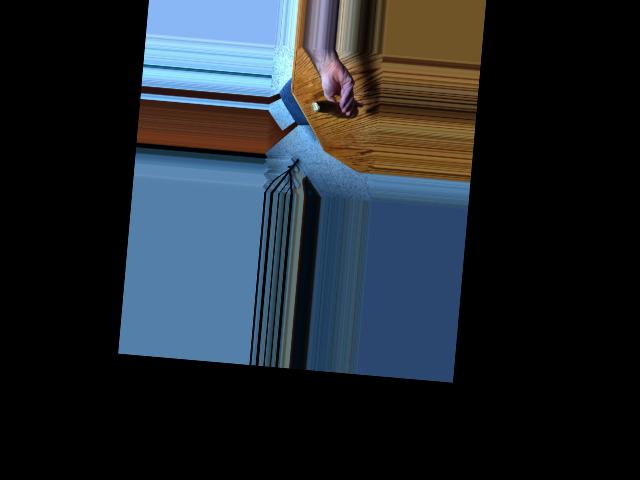sweet_potato: (314, 96, 355, 121)
